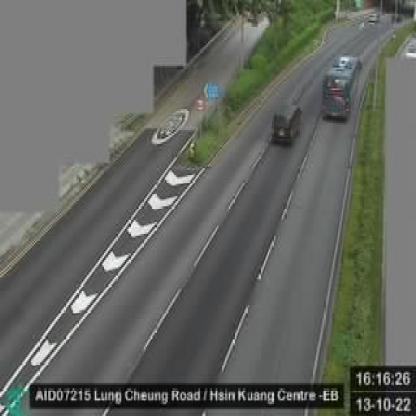Bus: (322, 53, 361, 124)
Car: (271, 100, 304, 146)
